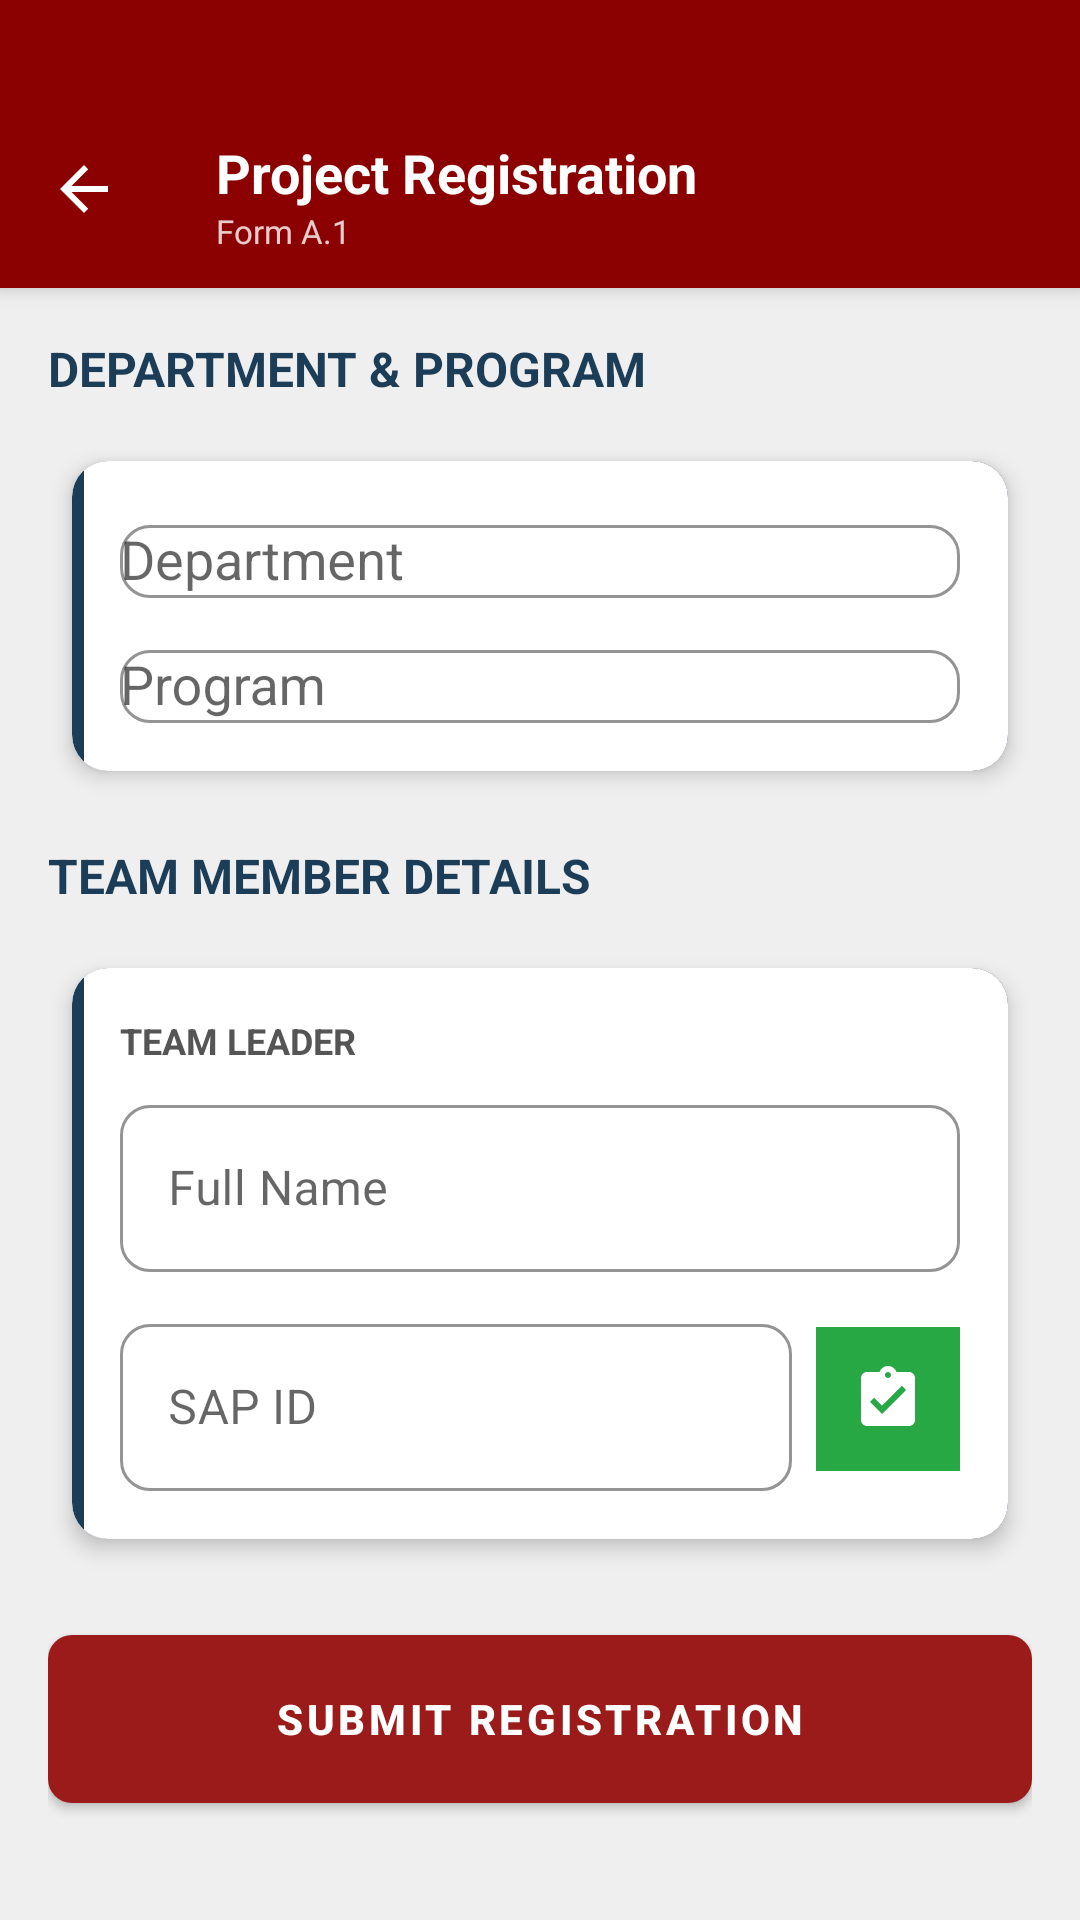

Icons on this 1080×1920 Android screen, each with its box as (x1, y1, x2, y2):
checklist: (861, 1366, 915, 1426)
